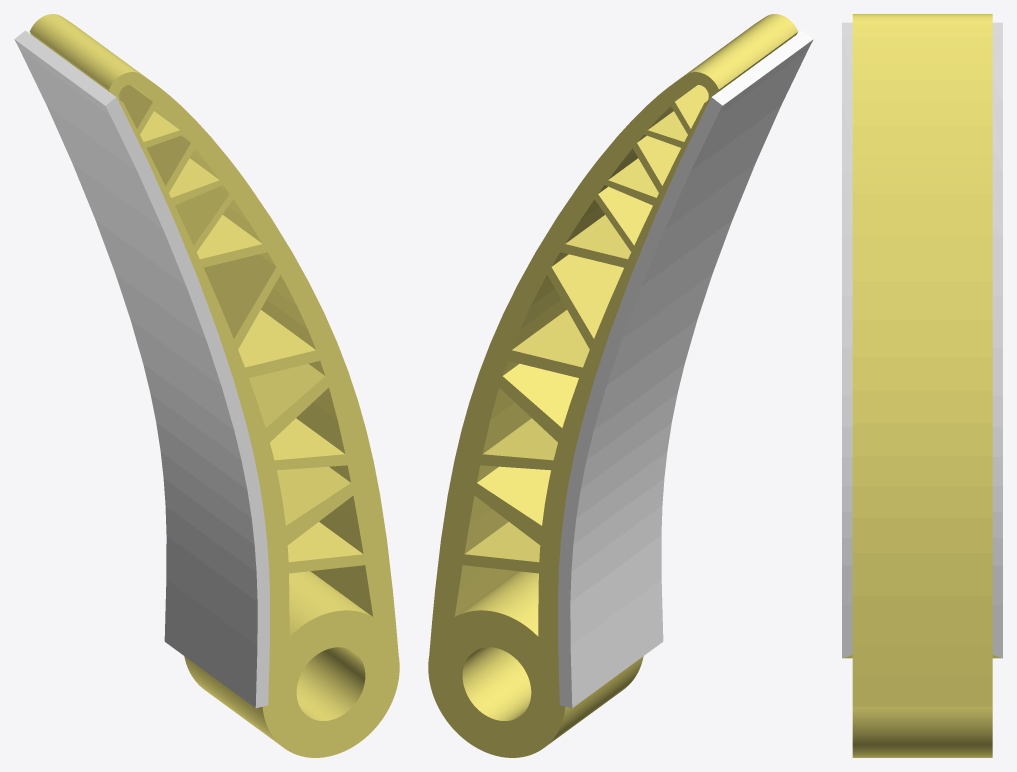
The model's file is gripper.dae.
The picture shows the model from 3 angles, left to right: view 1: azimuth 30°, elevation 25°; view 2: azimuth 150°, elevation 25°; view 3: azimuth 270°, elevation 25°; orthographic projection. The views are drawn at different scales.
Visible parts, largest first — view 1: Gripper; view 2: Gripper; view 3: Gripper.
Boxes of the visible parts, bbox=[...] form: Gripper: bbox=[14, 14, 399, 757]; Gripper: bbox=[428, 14, 813, 757]; Gripper: bbox=[842, 14, 1002, 757].
Bounding box in the file's own units: 0.0437 × 0.023 × 0.102.
Materials: 2 (2 with a texture image).
